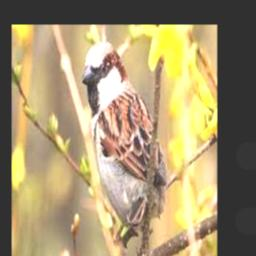Sparrow: (80, 41, 166, 244)
